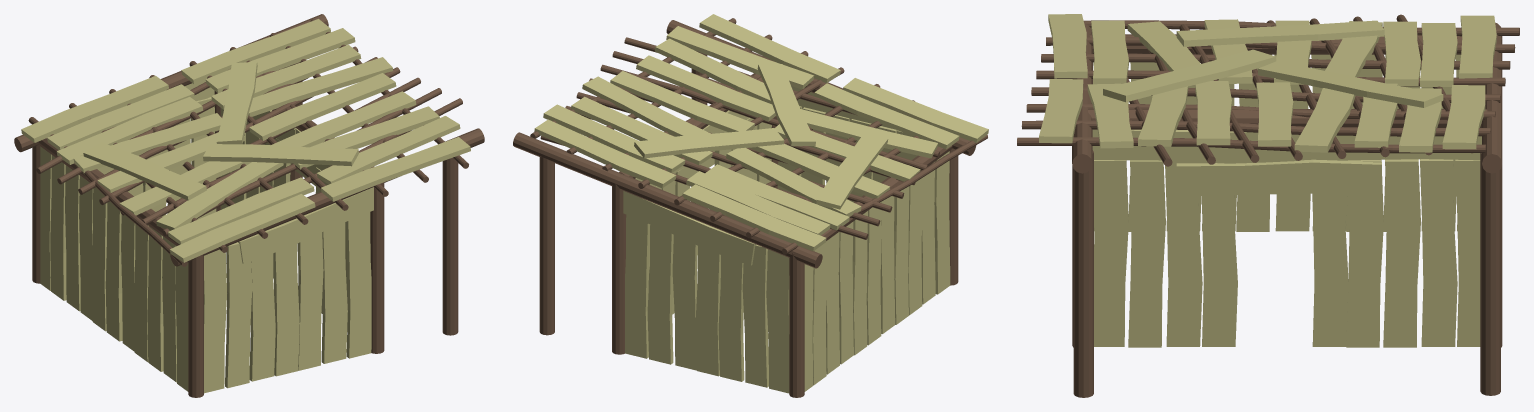
The model's file is Shack destruction.fbx.
3 renders of one model, left to right at view 1: azimuth 30°, elevation 25°; view 2: azimuth 150°, elevation 25°; view 3: azimuth 270°, elevation 25°, orthographic. The views are drawn at different scales.
Visible parts, largest first — view 1: Cube.465, Cube.468, Cube.464, Cube.451, Cube.463, Cube.466, Cube.469, Cube.467, Cube.430, Cube.431, Cube.429, Cube.435 (+44 smaller); view 2: Cube.475, Cube.474, Cube.450, Cube.471, Cube.470, Cube.476, Cube.472, Cube.473, Cube.449, Cube.439, Cube.440, Cube.446 (+44 smaller); view 3: Cube.060, Cube.426, Cube.427, Cube.423, Cube.424, Cube.422, Cube.425, Cube.063, Cube.421, Cube.428, Cube.441, Cube.439 (+46 smaller).
Boxes of the visible parts, bbox=[...] form: Cube.465: bbox=[345, 212, 371, 358]; Cube.468: bbox=[225, 242, 252, 388]; Cube.464: bbox=[321, 222, 347, 363]; Cube.451: bbox=[238, 187, 373, 263]; Cube.463: bbox=[297, 232, 323, 370]; Cube.466: bbox=[273, 244, 299, 376]; Cube.469: bbox=[204, 249, 226, 393]; Cube.467: bbox=[249, 253, 275, 381]; Cube.430: bbox=[321, 137, 470, 201]; Cube.431: bbox=[203, 144, 358, 166]; Cube.429: bbox=[169, 194, 315, 262]; Cube.435: bbox=[249, 73, 396, 140]; Cube.475: bbox=[647, 224, 673, 364]; Cube.474: bbox=[625, 214, 650, 358]; Cube.450: bbox=[623, 191, 755, 265]; Cube.471: bbox=[742, 244, 768, 387]; Cube.470: bbox=[766, 249, 789, 393]; Cube.476: bbox=[672, 235, 697, 370]; Cube.472: bbox=[718, 255, 744, 381]; Cube.473: bbox=[695, 246, 720, 376]; Cube.449: bbox=[682, 184, 826, 251]; Cube.439: bbox=[634, 128, 784, 158]; Cube.440: bbox=[534, 119, 676, 188]; Cube.446: bbox=[814, 83, 959, 149]; Cube.060: bbox=[1176, 159, 1381, 196]; Cube.426: bbox=[1383, 159, 1420, 347]; Cube.427: bbox=[1420, 159, 1457, 346]; Cube.423: bbox=[1128, 160, 1165, 347]; Cube.424: bbox=[1094, 160, 1128, 346]; Cube.422: bbox=[1165, 161, 1202, 346]; Cube.425: bbox=[1346, 159, 1383, 347]; Cube.063: bbox=[1312, 193, 1348, 346]; Cube.421: bbox=[1200, 162, 1237, 346]; Cube.428: bbox=[1455, 159, 1480, 346]; Cube.441: bbox=[1176, 20, 1384, 46]; Cube.439: bbox=[1258, 61, 1443, 107].
Size of the model in its own units: 7.42 by 4.25 by 7.35.
